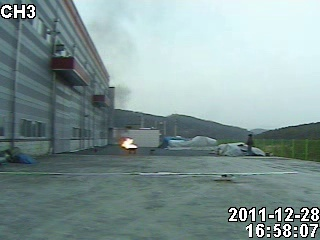fire: (118, 135, 143, 150)
smoke: (86, 1, 140, 78)
